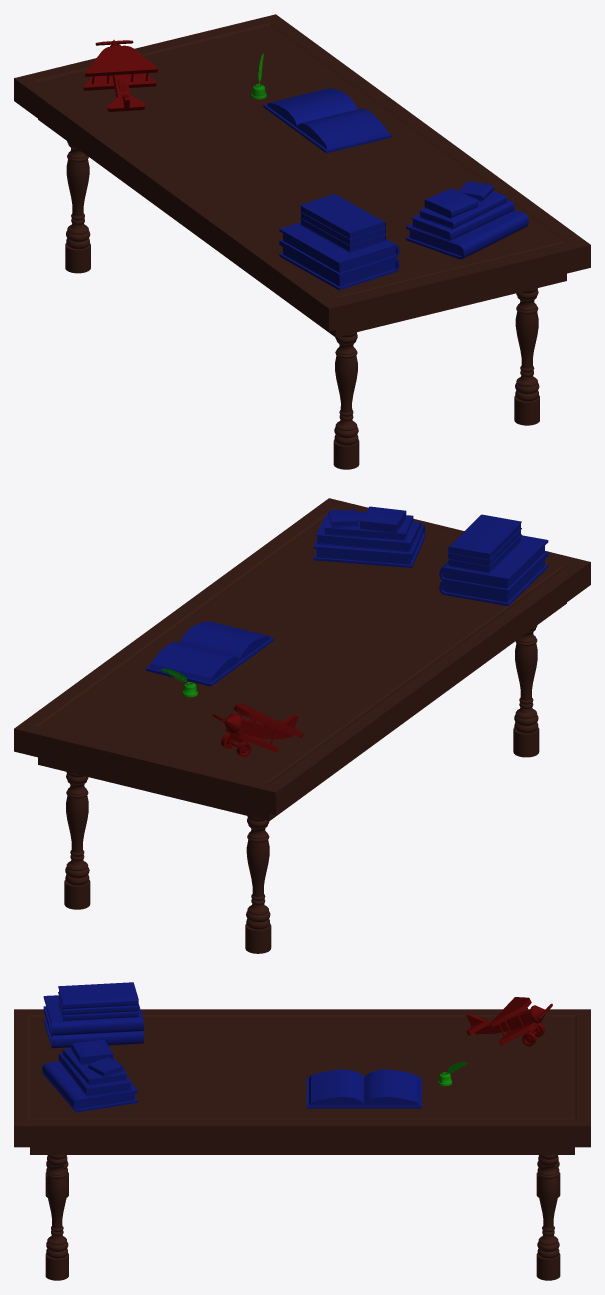
The model's file is studyTable02.fbx.
The picture shows the model from 3 angles, top to bottom: view 1: azimuth 30°, elevation 25°; view 2: azimuth 150°, elevation 25°; view 3: azimuth 270°, elevation 25°; orthographic projection. The views are drawn at different scales.
Parts seen in each view (by area): view 1: table, book open, whole plane, book L 003, book L 001, book M 005, book L 002, book M 001, book M 002, book S 001, book M 003, book M 004; view 2: table, book open, book L 003, whole plane, book M 005, book L 001, book L 002, book M 001, book M 002, book S 001; view 3: table, book open, whole plane, book L 001, book L 003, book M 005, book L 002, book M 001, book M 002, book S 001, book M 003, book M 004 (+1 smaller).
Part boxes in pixels (<box>): table: <box>14,14,590,469</box>; book open: <box>263,88,391,153</box>; whole plane: <box>83,40,157,111</box>; book L 003: <box>279,222,399,276</box>; book L 001: <box>406,209,528,259</box>; book M 005: <box>299,194,385,239</box>; book L 002: <box>279,243,399,290</box>; book M 001: <box>411,199,514,240</box>; book M 002: <box>419,191,506,229</box>; book S 001: <box>424,188,478,218</box>; book M 003: <box>299,217,385,252</box>; book M 004: <box>300,211,385,246</box>; table: <box>14,498,590,953</box>; book open: <box>145,621,273,686</box>; book L 003: <box>439,535,548,592</box>; whole plane: <box>212,702,303,757</box>; book M 005: <box>448,514,521,560</box>; book L 001: <box>313,524,425,567</box>; book L 002: <box>439,554,548,606</box>; book M 001: <box>316,514,420,552</box>; book M 002: <box>323,509,413,540</box>; book S 001: <box>360,506,406,532</box>; table: <box>14,1009,590,1280</box>; book open: <box>306,1069,421,1108</box>; whole plane: <box>466,997,552,1046</box>; book L 001: <box>42,1061,137,1112</box>; book L 003: <box>43,995,143,1035</box>; book M 005: <box>58,982,138,1009</box>; book L 002: <box>43,1009,143,1048</box>; book M 001: <box>58,1053,131,1096</box>; book M 002: <box>62,1048,127,1085</box>; book S 001: <box>71,1039,113,1064</box>; book M 003: <box>58,998,138,1020</box>; book M 004: <box>58,992,138,1014</box>.
Bounding box in the file's own units: 120 × 101 × 250.
